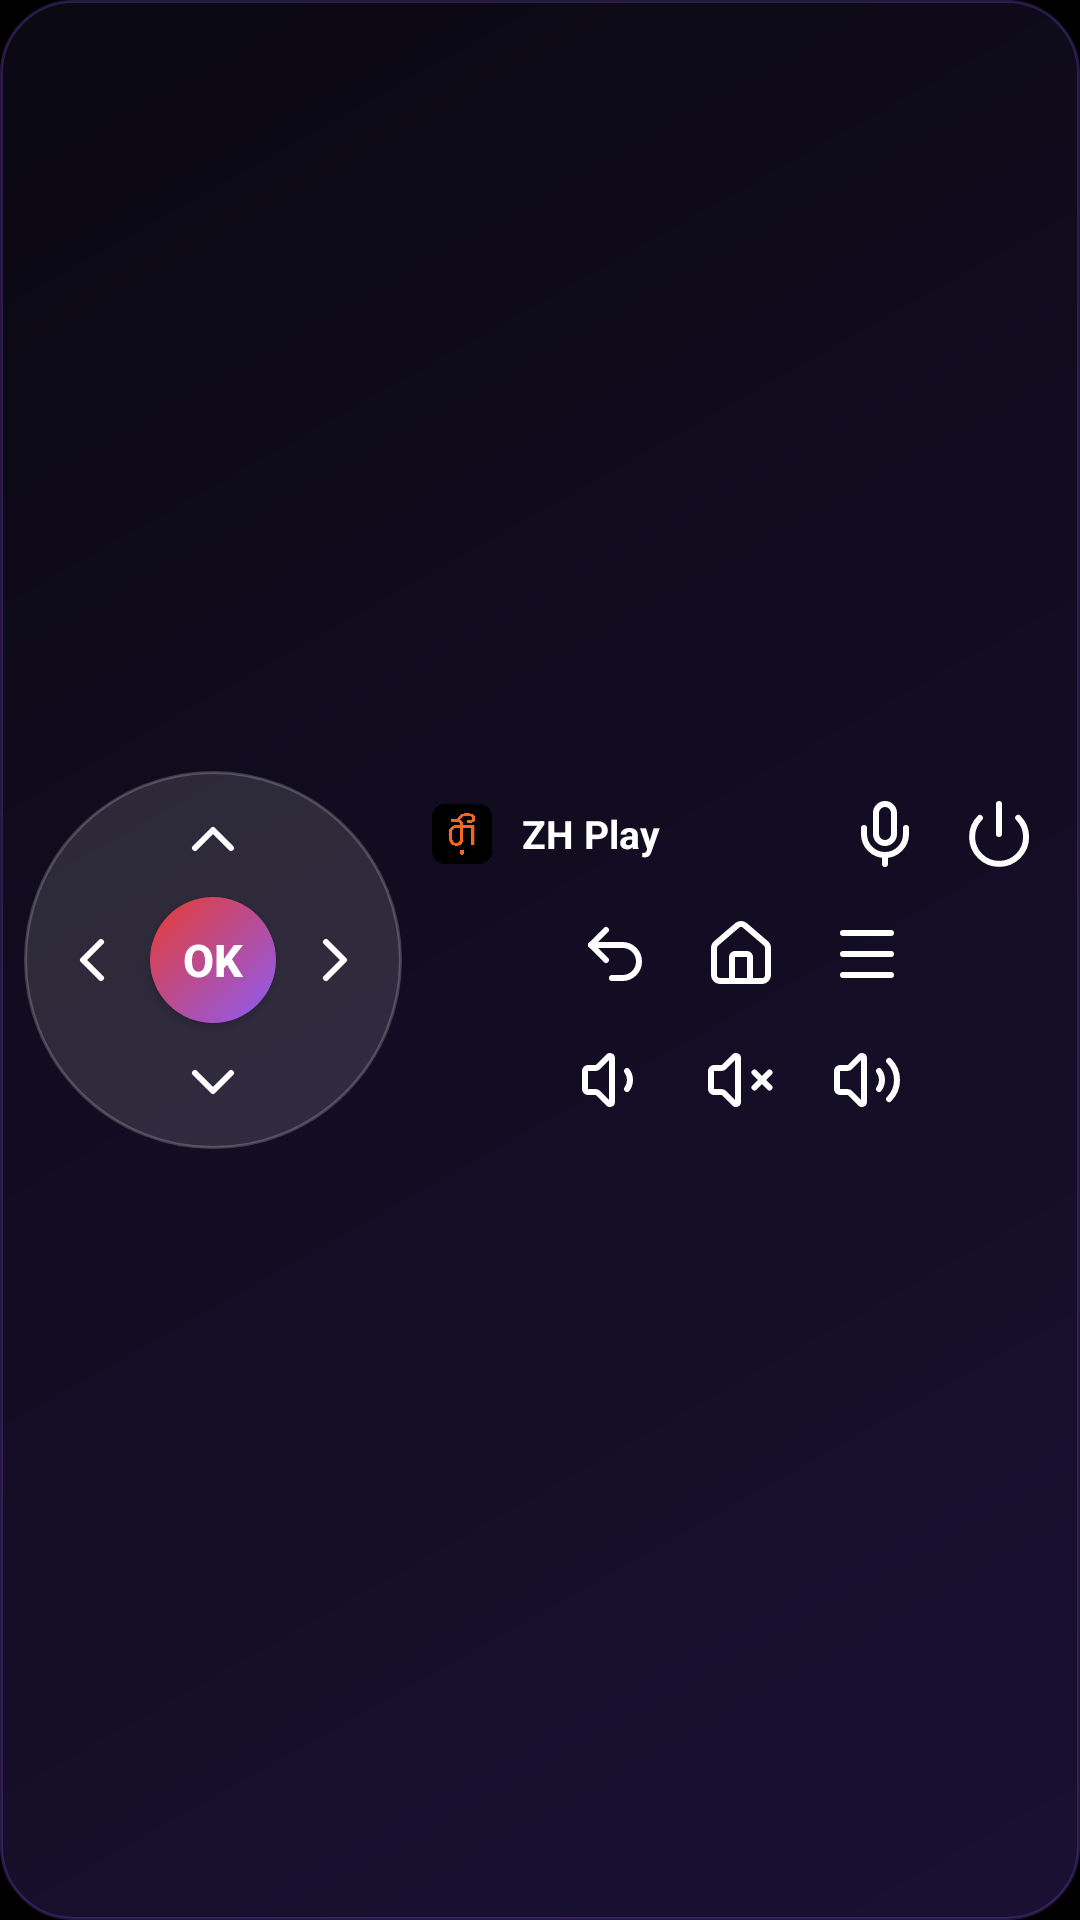

Screen size 1080w x 1920h. Icon name, then its box in pixels as bbox=[x1, y1, x2, y2]:
Back: bbox=[588, 927, 642, 981]
Down: bbox=[192, 1070, 234, 1094]
Home: bbox=[711, 921, 771, 984]
Left: bbox=[80, 939, 104, 981]
Menu: bbox=[840, 930, 894, 978]
Mute: bbox=[708, 1053, 773, 1107]
Power: bbox=[969, 801, 1029, 867]
Right: bbox=[323, 939, 347, 981]
Up: bbox=[192, 827, 234, 851]
Voice: bbox=[861, 801, 909, 867]
Volume down: bbox=[582, 1053, 633, 1107]
Volume up: bbox=[834, 1053, 900, 1107]
